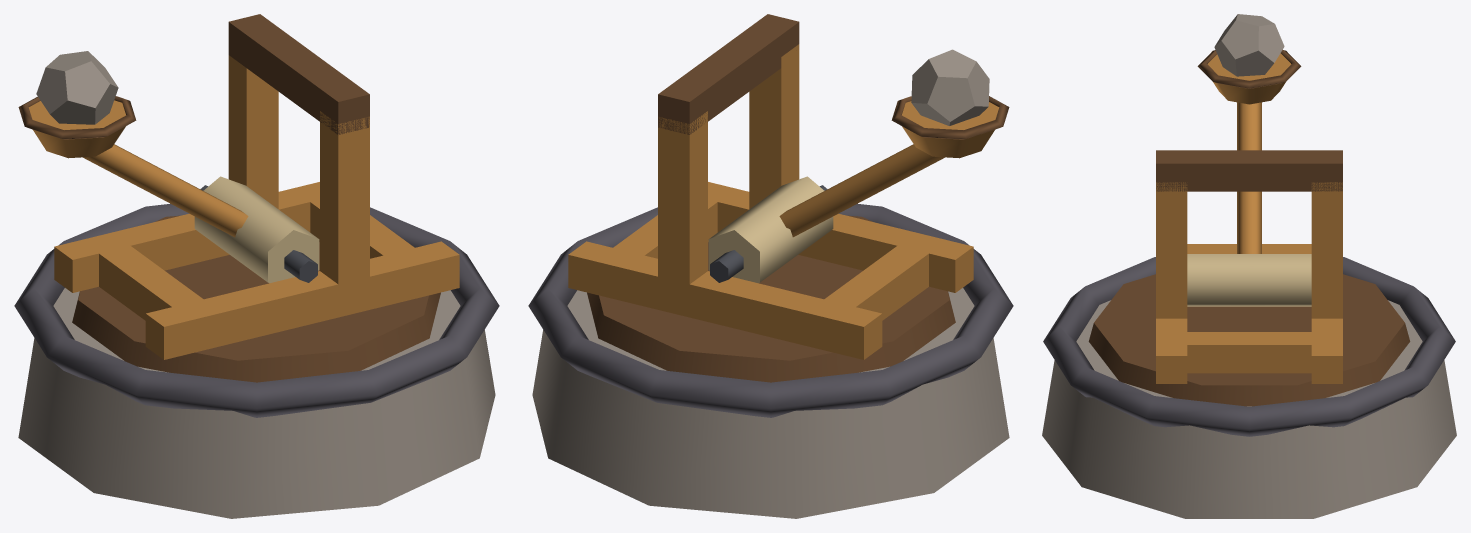
Rendered from tower_catapult.glb.
The picture shows the model from 3 angles, left to right: view 1: azimuth 30°, elevation 25°; view 2: azimuth 150°, elevation 25°; view 3: azimuth 270°, elevation 25°; orthographic projection. The views are drawn at different scales.
Parts seen in each view (by area): view 1: base, base_rim, turntable, rail_l, stop_bar, upright_l, rail_r, torsion_rope, upright_r, cross_w, stone_0, arm_beam (+4 smaller); view 2: base, base_rim, turntable, rail_r, upright_r, stop_bar, rail_l, upright_l, torsion_rope, cross_w, stone_0, arm_beam (+4 smaller); view 3: base, turntable, base_rim, stop_bar, torsion_rope, cross_e, upright_r, upright_l, stone_0, arm_beam, rail_l, rail_r (+3 smaller).
Part boxes in pixels (bbox=[...]): base: bbox=[18, 288, 495, 518]; base_rim: bbox=[14, 203, 499, 417]; turntable: bbox=[72, 215, 440, 382]; rail_l: bbox=[145, 241, 459, 359]; stop_bar: bbox=[228, 14, 369, 134]; upright_l: bbox=[320, 111, 369, 284]; rail_r: bbox=[54, 182, 319, 292]; torsion_rope: bbox=[194, 176, 319, 283]; upright_r: bbox=[228, 55, 278, 208]; cross_w: bbox=[96, 235, 221, 353]; stone_0: bbox=[36, 51, 118, 124]; arm_beam: bbox=[83, 144, 248, 237]; base: bbox=[532, 288, 1009, 518]; base_rim: bbox=[528, 203, 1013, 417]; turntable: bbox=[587, 215, 955, 382]; rail_r: bbox=[568, 241, 882, 359]; upright_r: bbox=[658, 111, 707, 287]; stop_bar: bbox=[658, 14, 799, 134]; rail_l: bbox=[708, 182, 973, 292]; upright_l: bbox=[749, 44, 799, 208]; torsion_rope: bbox=[708, 176, 833, 283]; cross_w: bbox=[806, 233, 932, 352]; stone_0: bbox=[911, 49, 989, 125]; arm_beam: bbox=[779, 144, 944, 237]; base: bbox=[1042, 300, 1456, 518]; turntable: bbox=[1088, 274, 1410, 406]; base_rim: bbox=[1043, 257, 1455, 436]; stop_bar: bbox=[1156, 150, 1342, 191]; torsion_rope: bbox=[1187, 254, 1311, 306]; cross_e: bbox=[1156, 332, 1342, 373]; upright_r: bbox=[1311, 182, 1342, 318]; upright_l: bbox=[1156, 182, 1187, 318]; stone_0: bbox=[1214, 14, 1284, 76]; arm_beam: bbox=[1237, 102, 1261, 253]; rail_l: bbox=[1156, 318, 1187, 383]; rail_r: bbox=[1311, 318, 1342, 383].
Bounding box in the file's own units: 0.419 × 0.3651 × 0.4.
